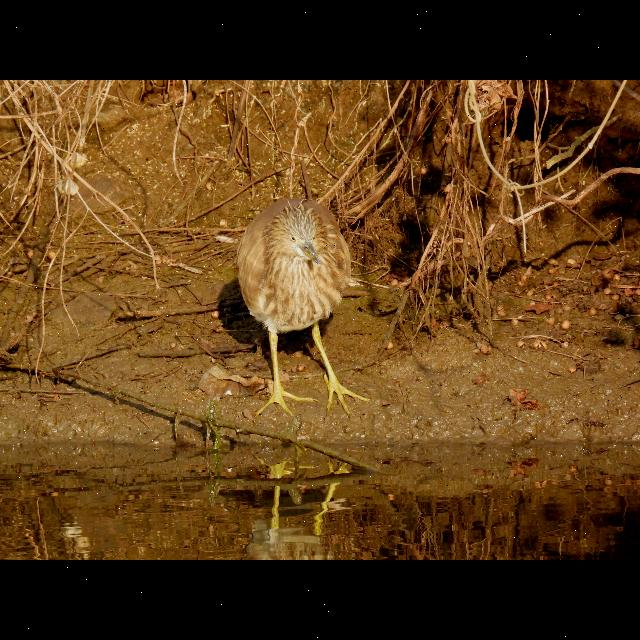heron: (230, 180, 358, 422)
